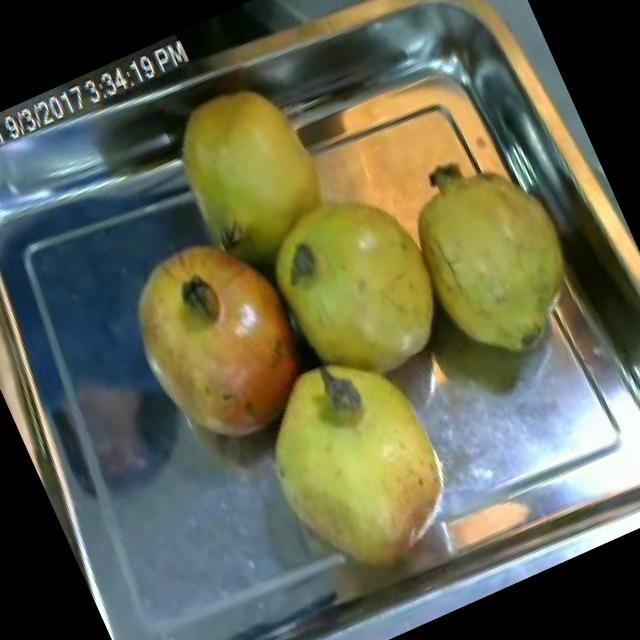fruit: (227, 321, 493, 612), (95, 206, 346, 484), (376, 120, 607, 391), (242, 161, 472, 413), (152, 61, 348, 270)
